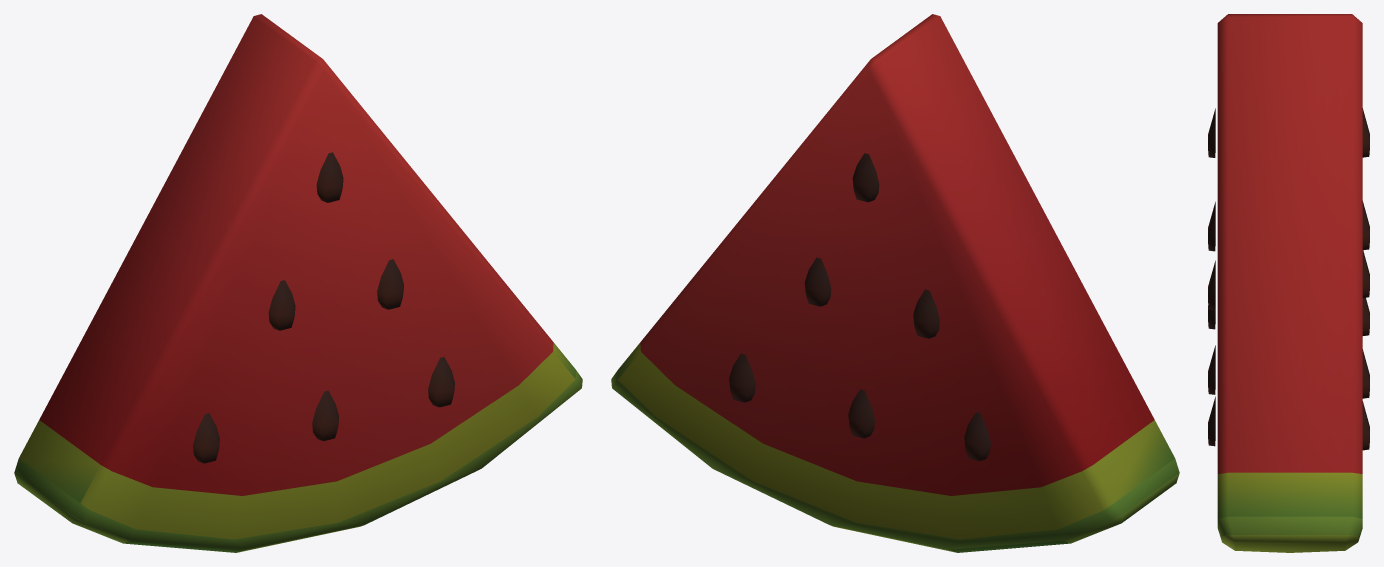
The model's file is Watermelon_003.glb.
3 views of the same model, side by side, from view 1: azimuth 30°, elevation 25°; view 2: azimuth 150°, elevation 25°; view 3: azimuth 270°, elevation 25° (orthographic).
Visible parts, largest first — view 1: geometry_0; view 2: geometry_0; view 3: geometry_0.
Part boxes in pixels (x1,y1,x2,y2): geometry_0: (14,14,582,552); geometry_0: (611,14,1179,552); geometry_0: (1208,14,1369,552).
Size of the model in its own units: 0.1095 by 0.0982 by 0.0298.
Materials: 1 (1 with a texture image).
